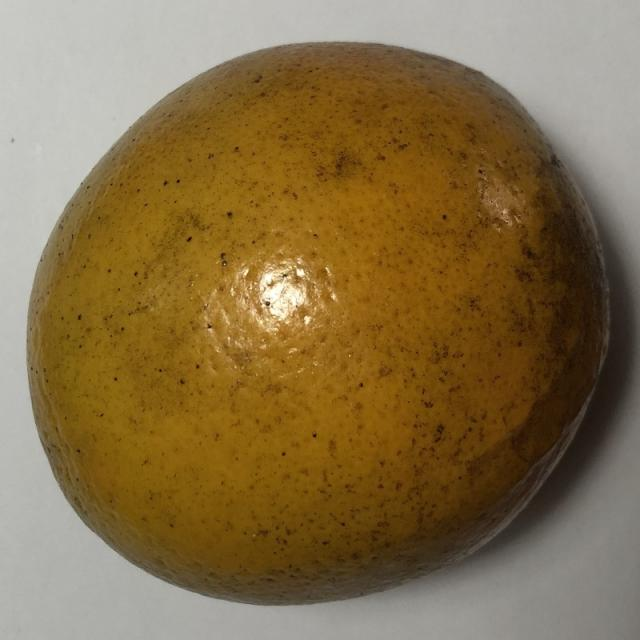blackspot: (10, 36, 625, 622)
